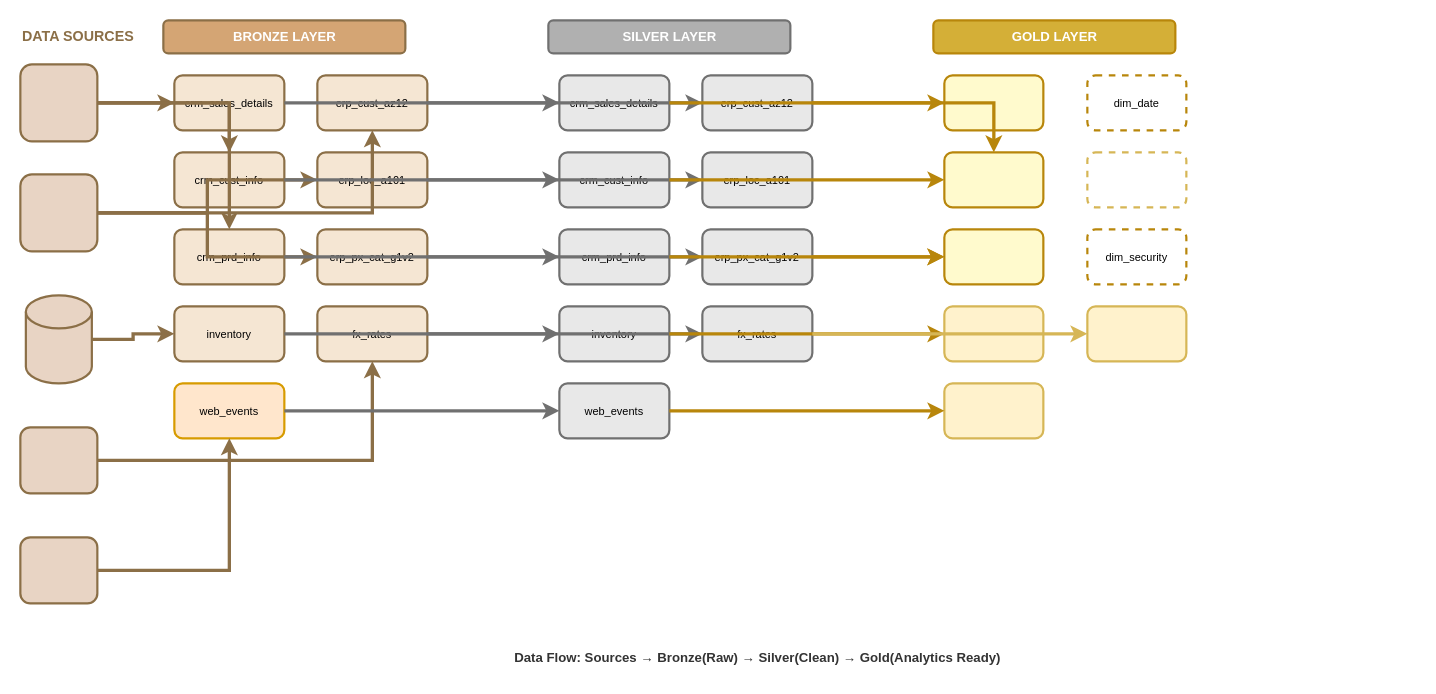
Image size: 1436x694. Some labels were removed from this diagram. Each missing label, with the centre of its shape:
Clickstream: (58,570)
CRM: (58,102)
dim_currency: (1136,179)
dim_customers: (993,179)
dim_products: (993,256)
ERP: (58,212)
fact_fx_rates: (1136,333)
fact_inventory: (993,333)
fact_sales: (993,102)
fact_web_events: (993,410)
FX API: (58,460)
OLTP DB: (58,339)
